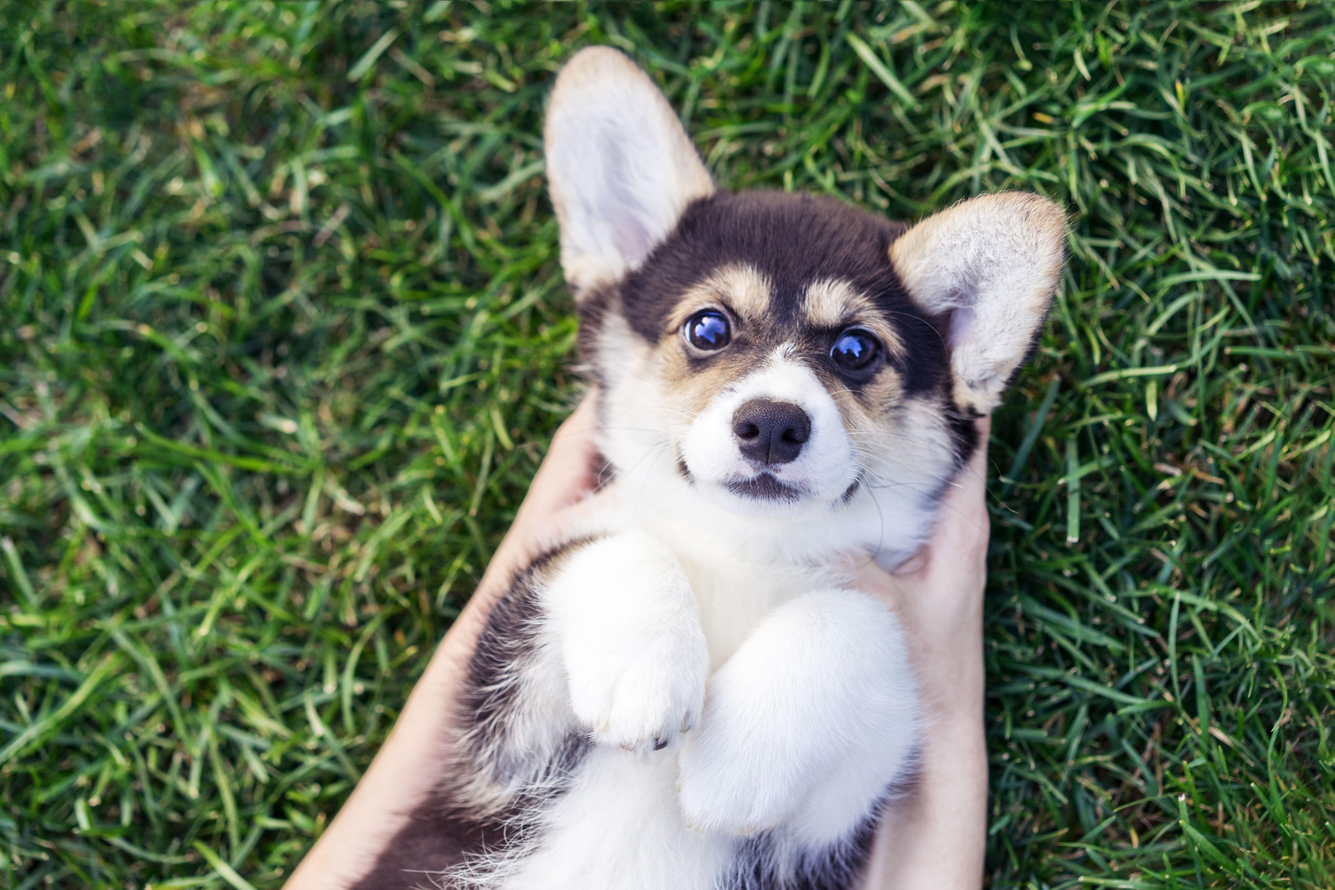puppy-dog: (357, 41, 1070, 890)
